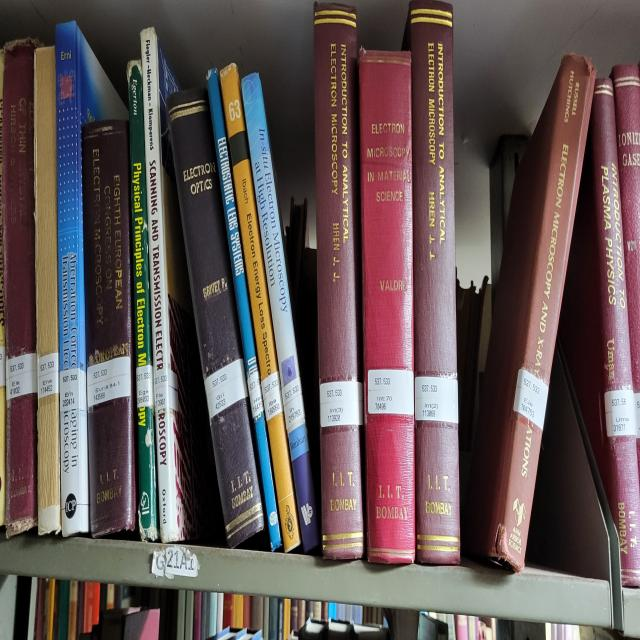Book: (464, 54, 595, 571), (166, 89, 265, 547), (559, 78, 640, 587), (220, 62, 300, 552), (241, 73, 320, 552), (55, 22, 128, 536), (141, 27, 208, 544), (208, 68, 280, 549), (406, 5, 460, 565), (359, 51, 415, 563), (314, 3, 365, 560), (82, 119, 136, 536), (2, 38, 38, 536), (126, 62, 159, 541), (34, 46, 61, 536)
Label: (205, 357, 248, 419), (86, 357, 131, 409), (514, 368, 549, 430), (415, 376, 459, 425), (368, 368, 414, 414), (320, 381, 364, 427), (6, 352, 38, 400), (604, 390, 636, 438), (154, 368, 179, 411), (261, 371, 282, 422), (38, 352, 59, 398), (248, 368, 264, 419), (136, 365, 154, 409)
